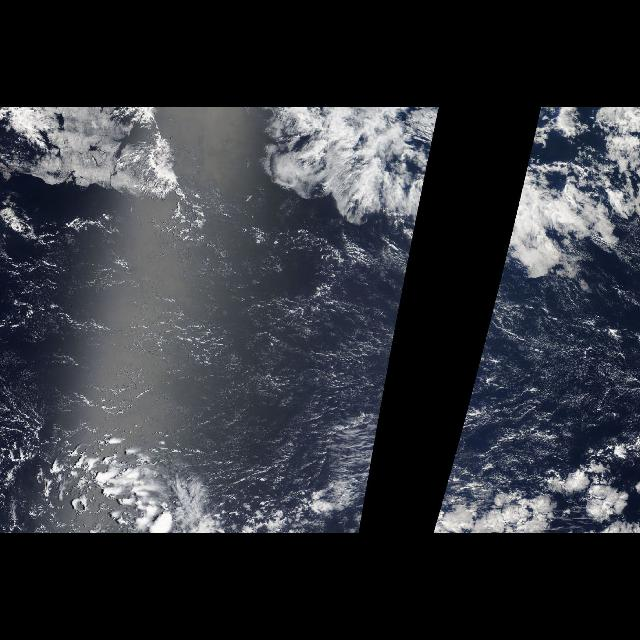Fish: (247, 114, 439, 282), (498, 114, 638, 282)
Gravel: (7, 438, 214, 534)
Sugar: (9, 256, 411, 452), (454, 256, 636, 452)
